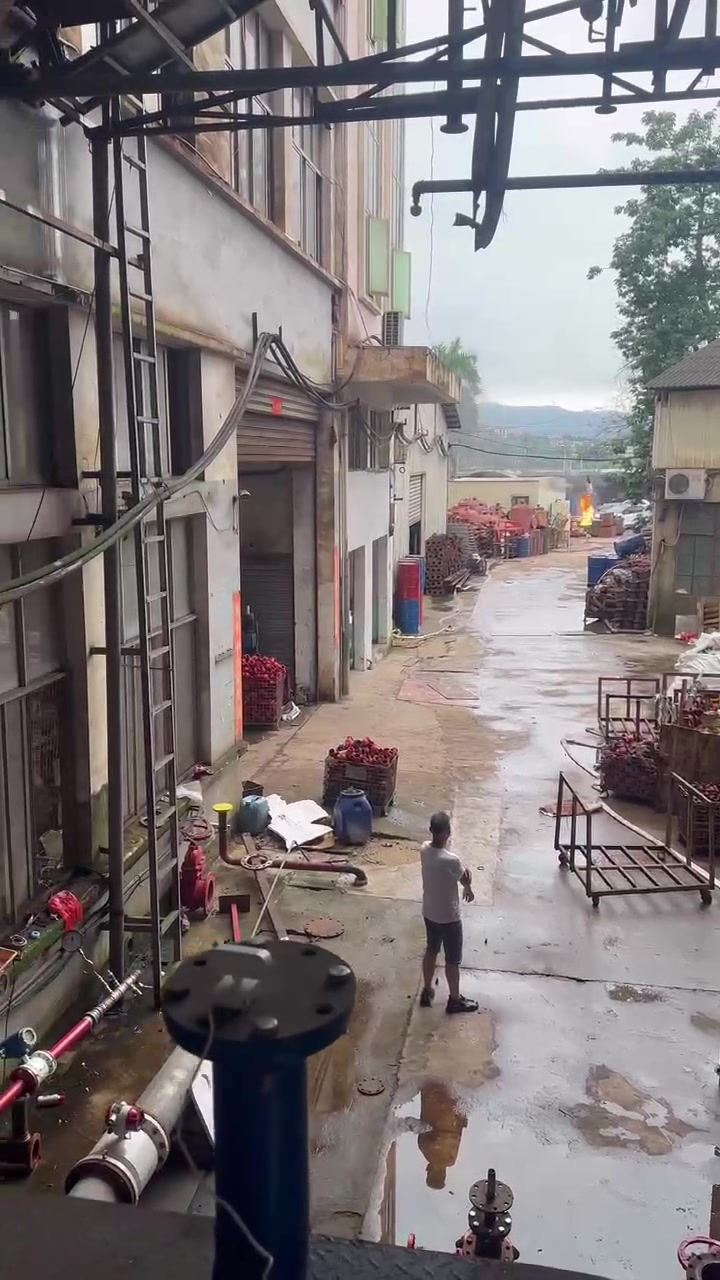fire: (579, 494, 594, 525)
